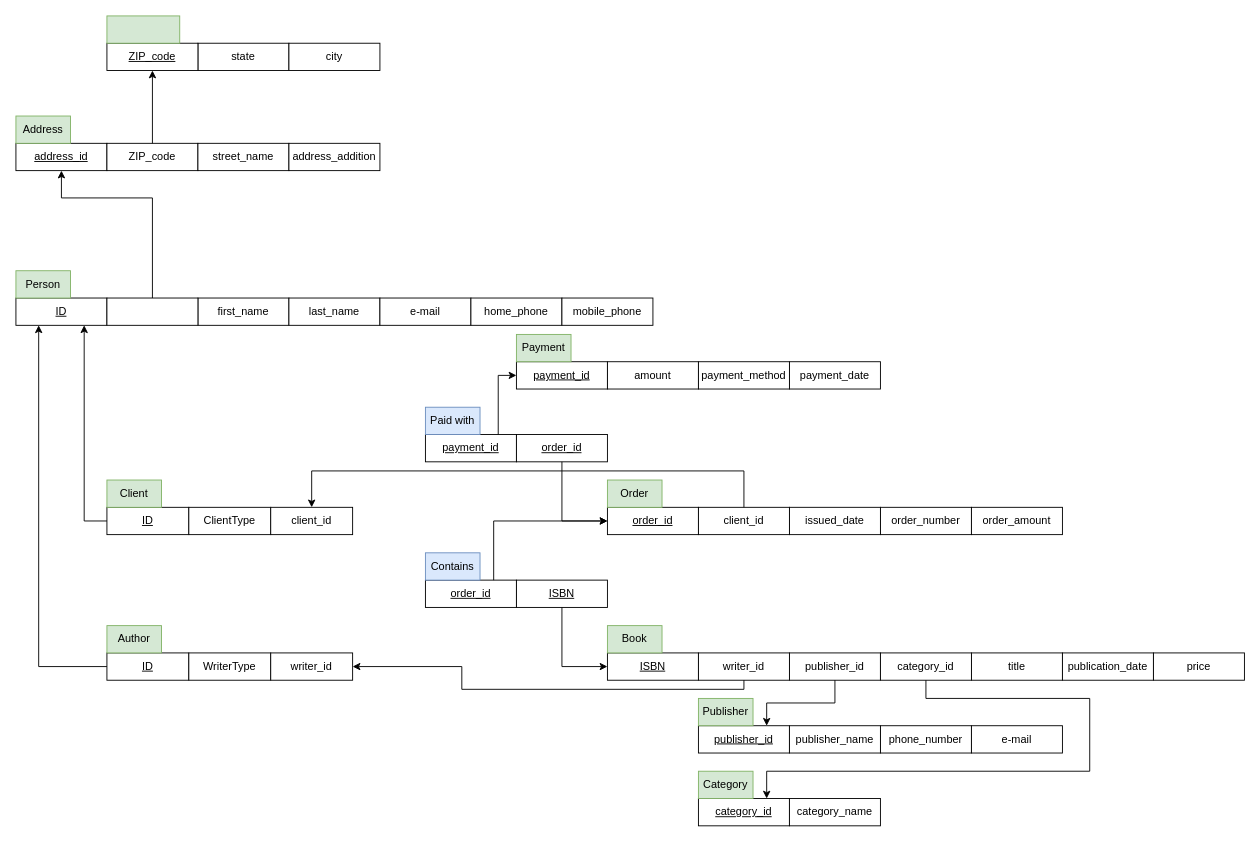
This 1260x842 diagram has some shape labels left out. The shapes that lost their labels are listed below. From the top down, each one's centre as x and y in pixels, then its label:
At point (143, 29): "ZIP_Location".
At point (152, 311): "adress_id".
